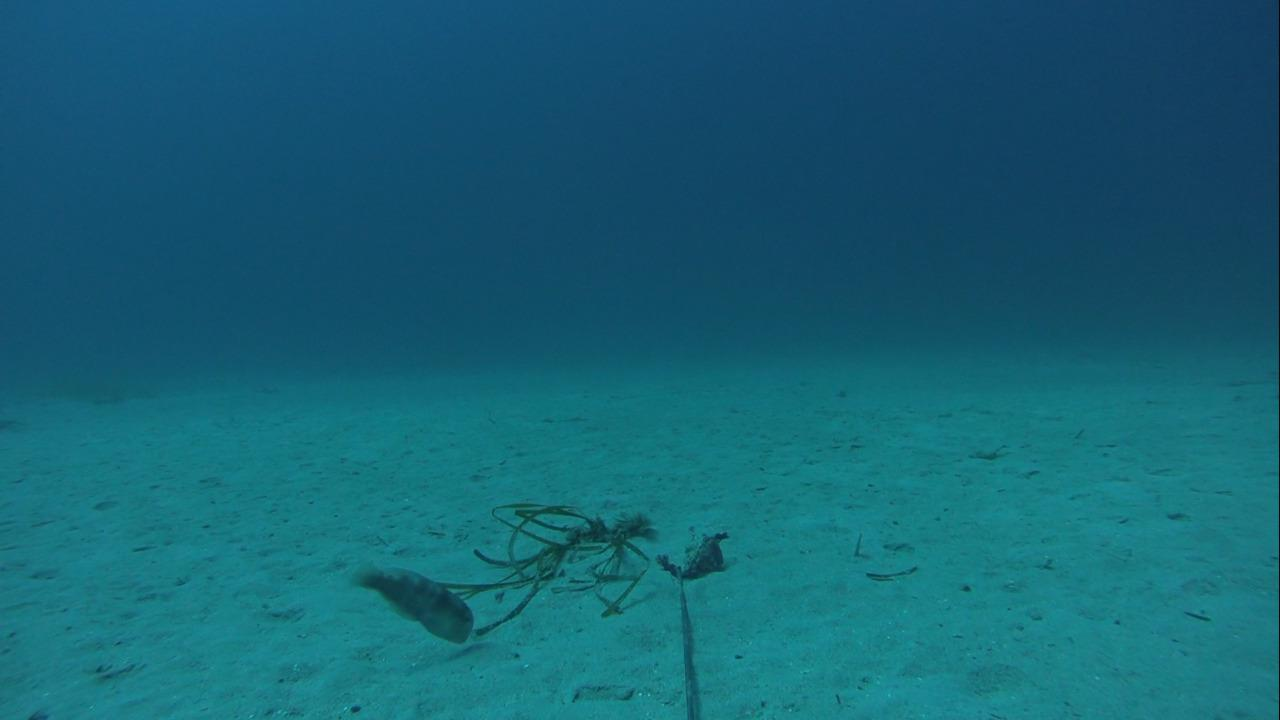raor: (346, 555, 478, 650)
